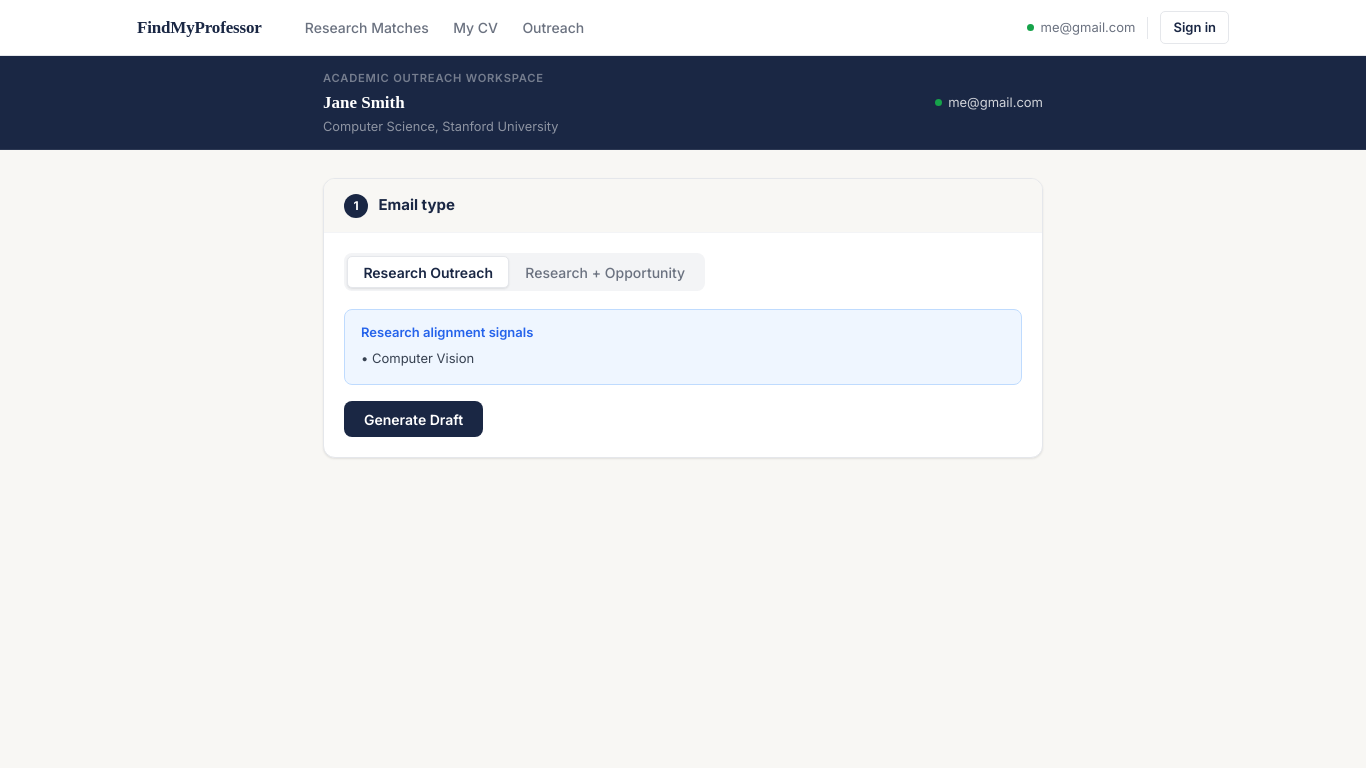
Scenario: Email compose page › surfaces a real preview failure instead of faking success with local data
Expected: the text "Jane Smith" is shown, [323,93,405,112]
Click the button "Generate Draft" at (414, 419), box [344,401,483,437]
(page scrolled)
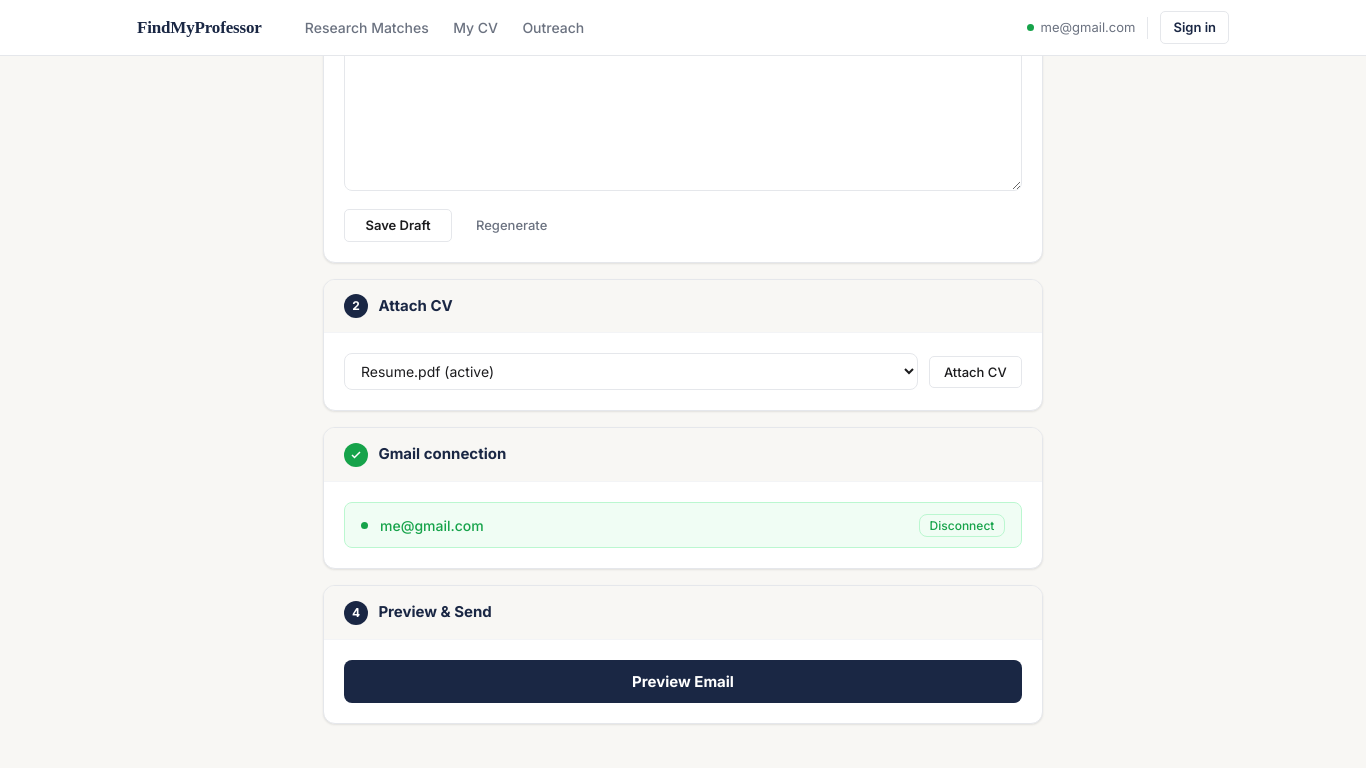
Click the button "Preview Email" at (683, 682), box [344,660,1022,703]
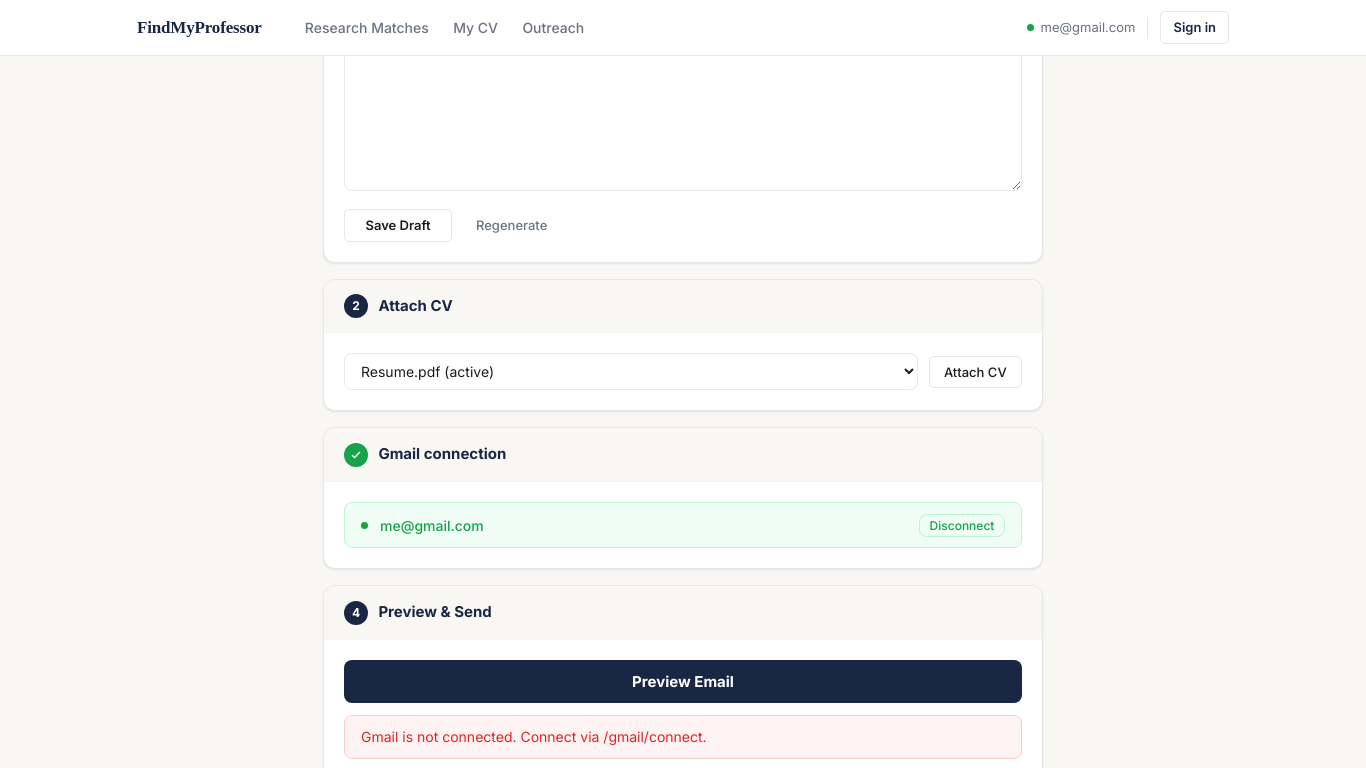
Now the text "Gmail is not connected. Connect via /gmail/connect." is shown, box [344,715,1022,759]
